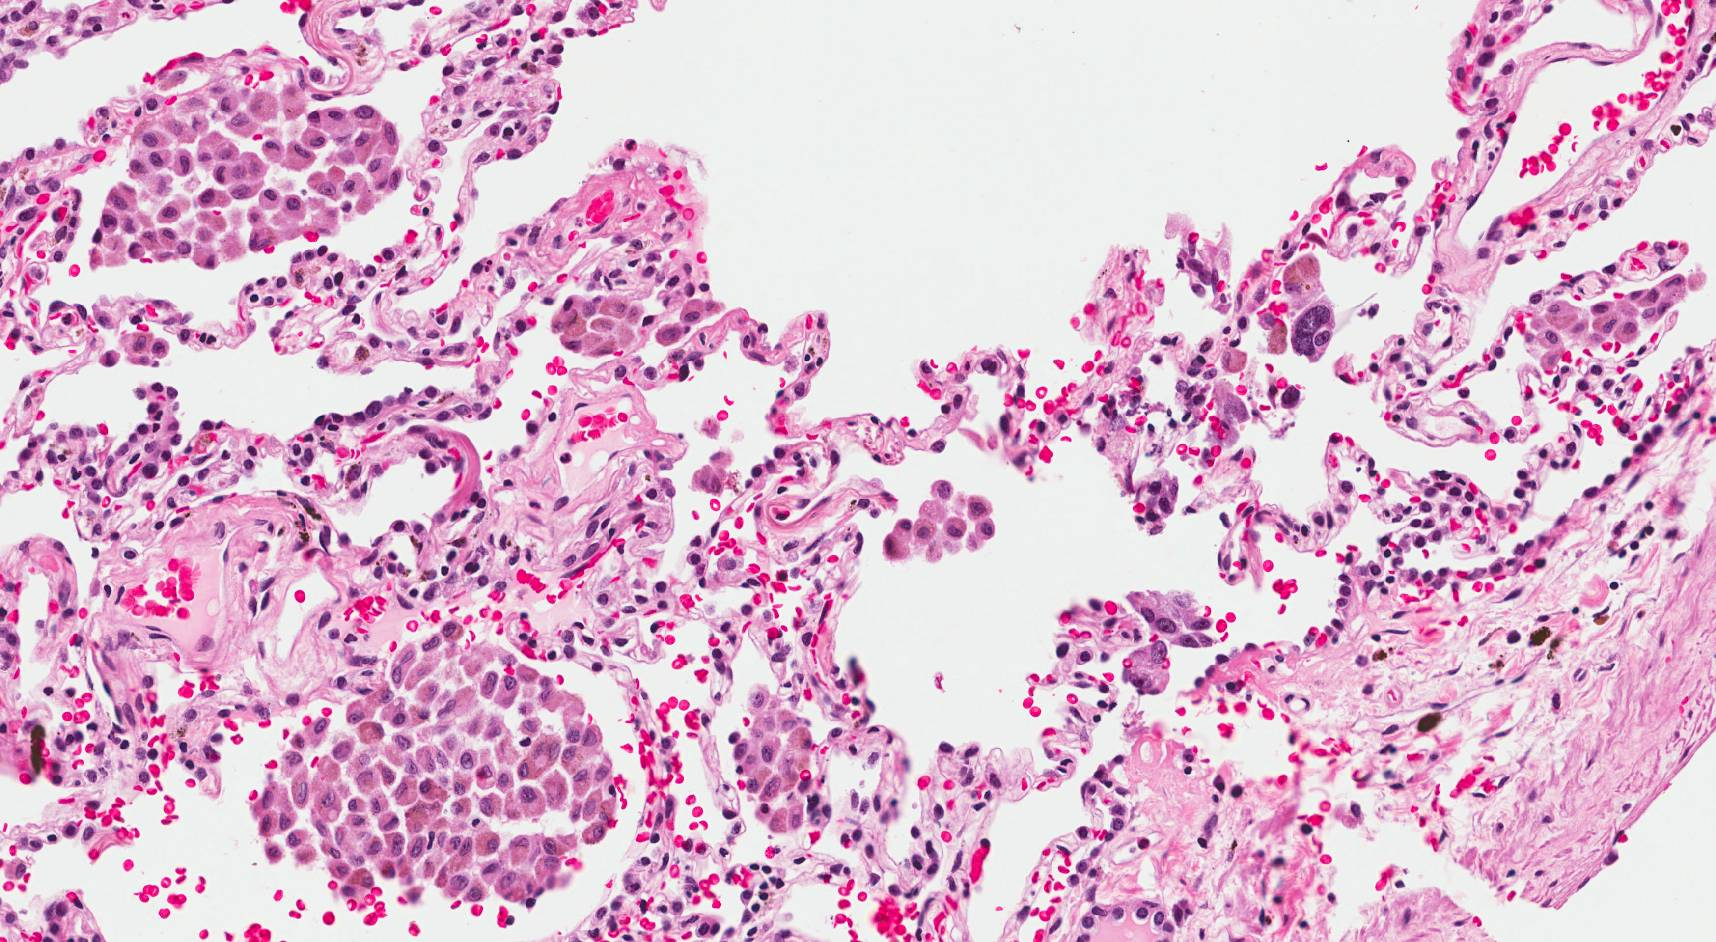stas: (1122, 587, 1219, 700), (1287, 296, 1336, 363), (1135, 476, 1184, 538)
